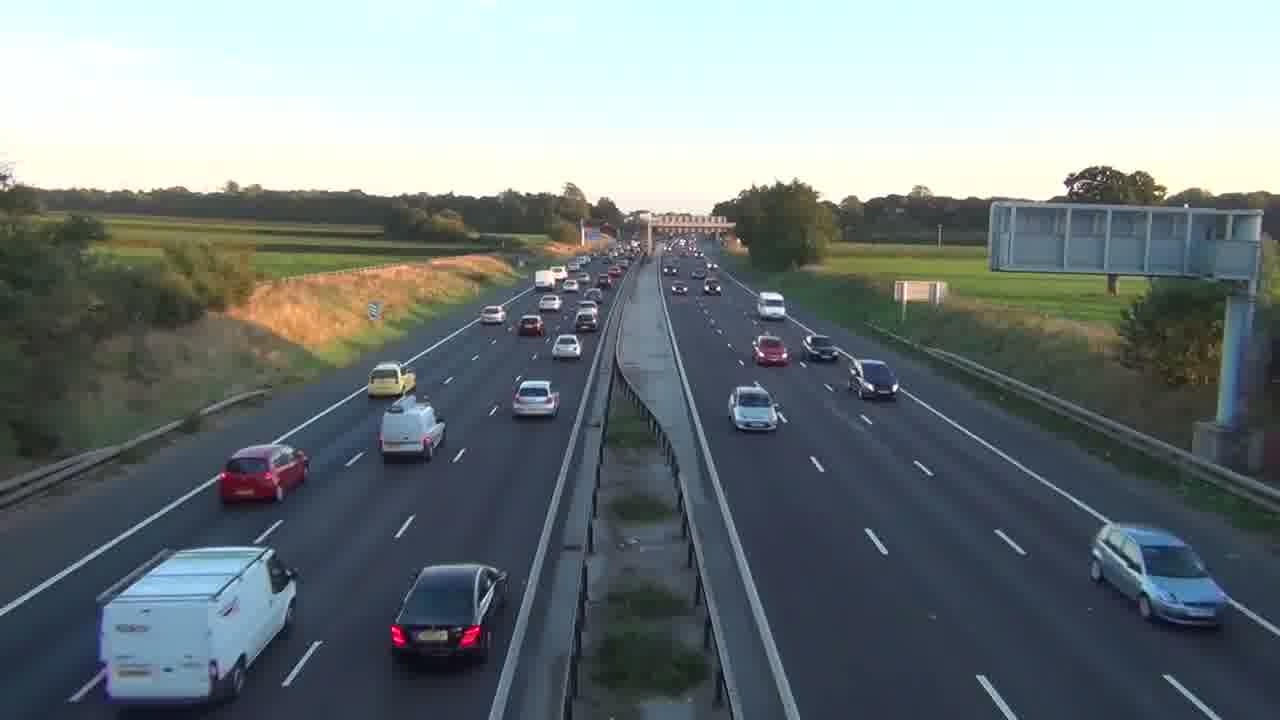car: (1087, 519, 1227, 628), (388, 561, 509, 667), (215, 443, 308, 504), (728, 382, 783, 432), (846, 357, 900, 401), (511, 378, 561, 419), (367, 361, 415, 400), (752, 333, 790, 368), (800, 334, 841, 363), (551, 333, 582, 361), (575, 304, 598, 332), (478, 304, 505, 326), (703, 278, 722, 294)
truck: (97, 542, 300, 706), (379, 399, 448, 463)
